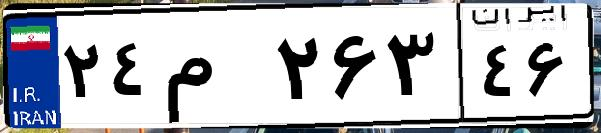2: (270, 28, 330, 110), (57, 26, 110, 100)
3: (385, 28, 445, 110)
4: (475, 38, 525, 113), (110, 28, 158, 98)
6: (330, 28, 385, 110), (525, 38, 570, 115)
م: (158, 20, 270, 120)
